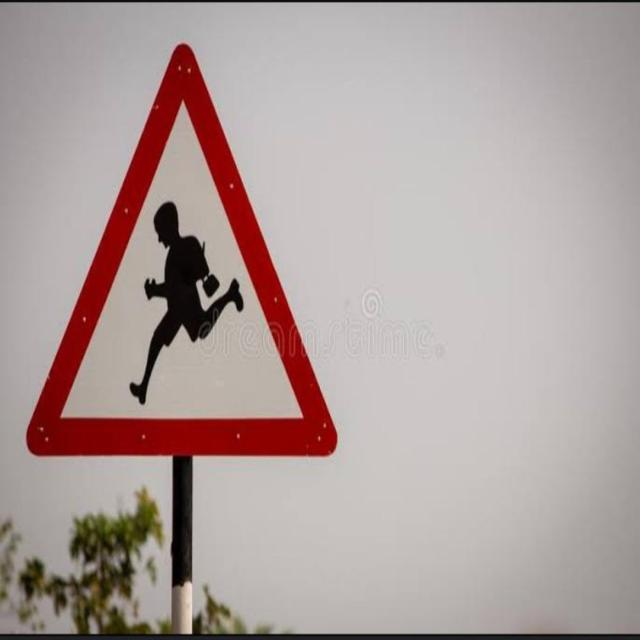school_ahead: (23, 44, 341, 455)
